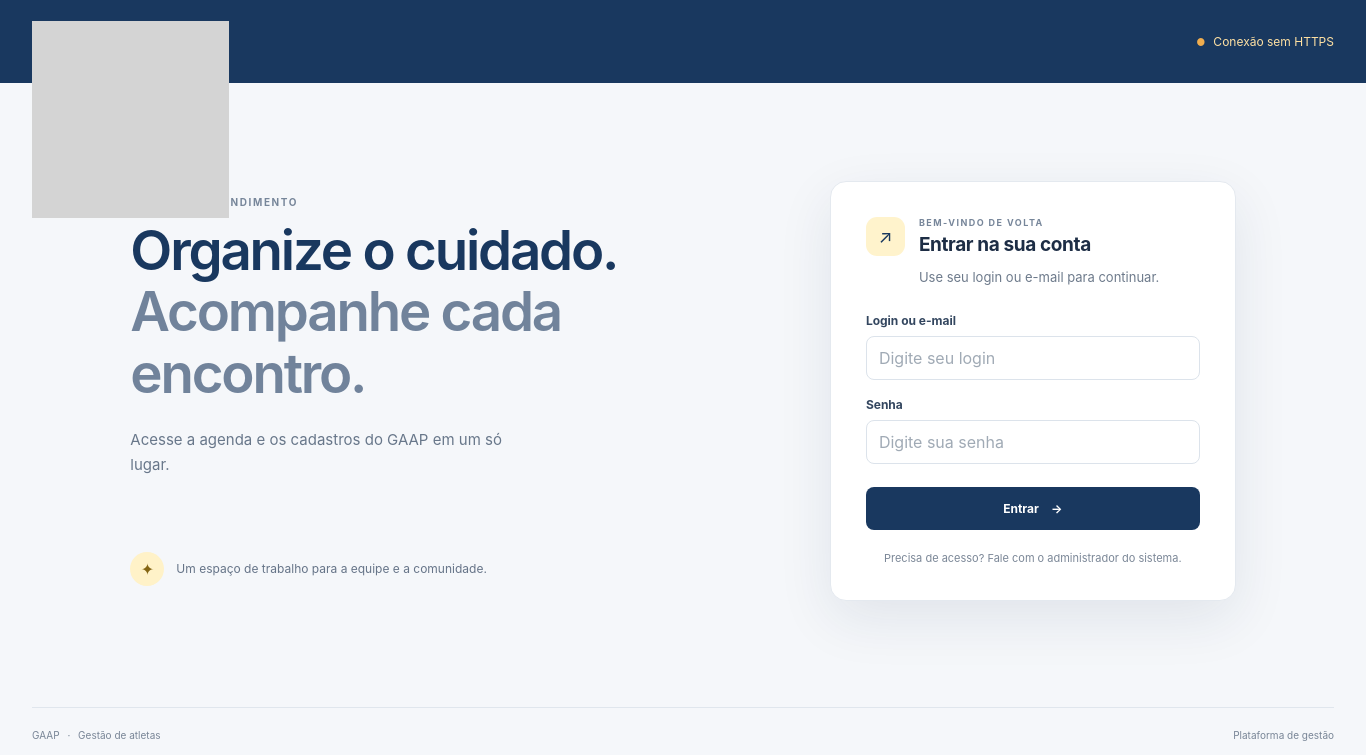
it: cliente web GAAP › mostra Cadastros apenas ao Administrador e valida o envio pela API
Expected: the heading "Entrar na sua conta" is shown, [919,233,1091,256]
Type "admin@example.com" into the field labelled "Login ou e-mail" at (1033, 358), box [866,336,1200,380]
Type "senha-teste" into the password field labelled "Senha" at (1033, 442), box [866,420,1200,464]
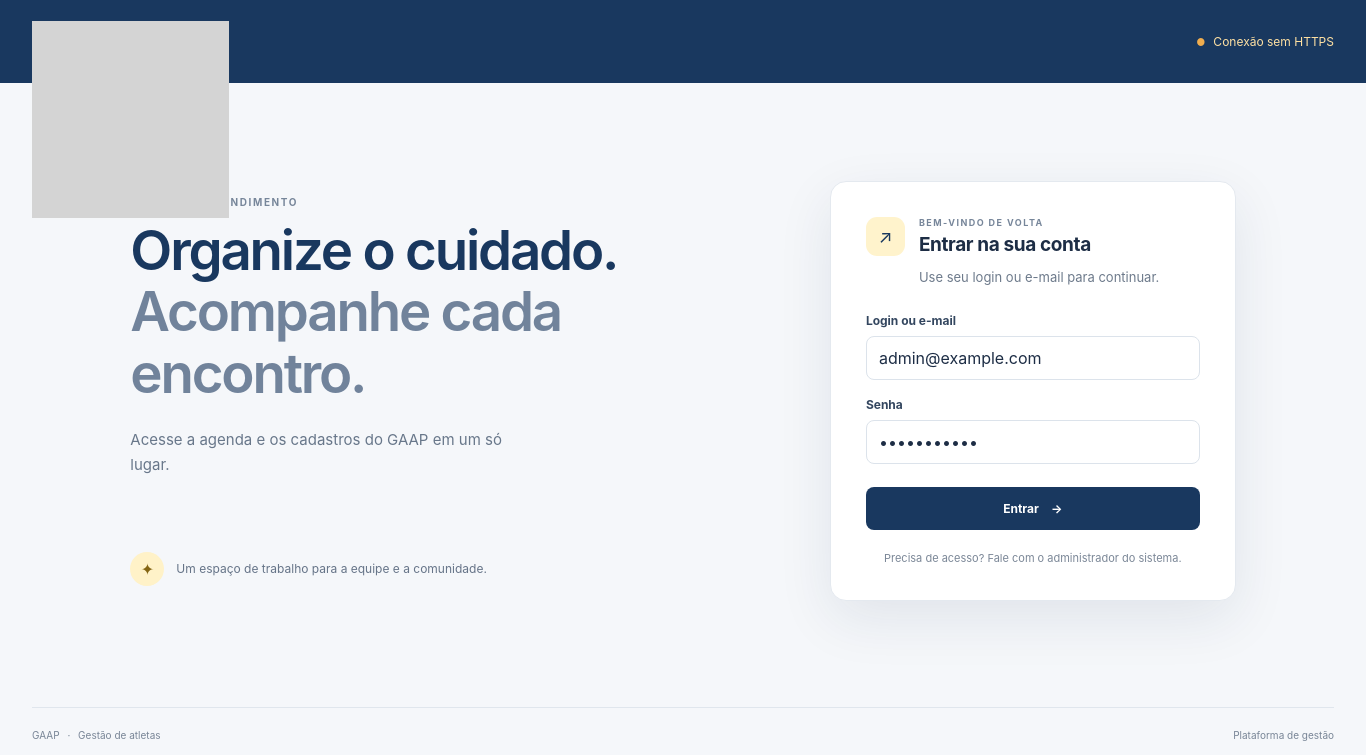
Submit the form "Login ou e-mail Senha Entrar →", box [866,313,1200,530]
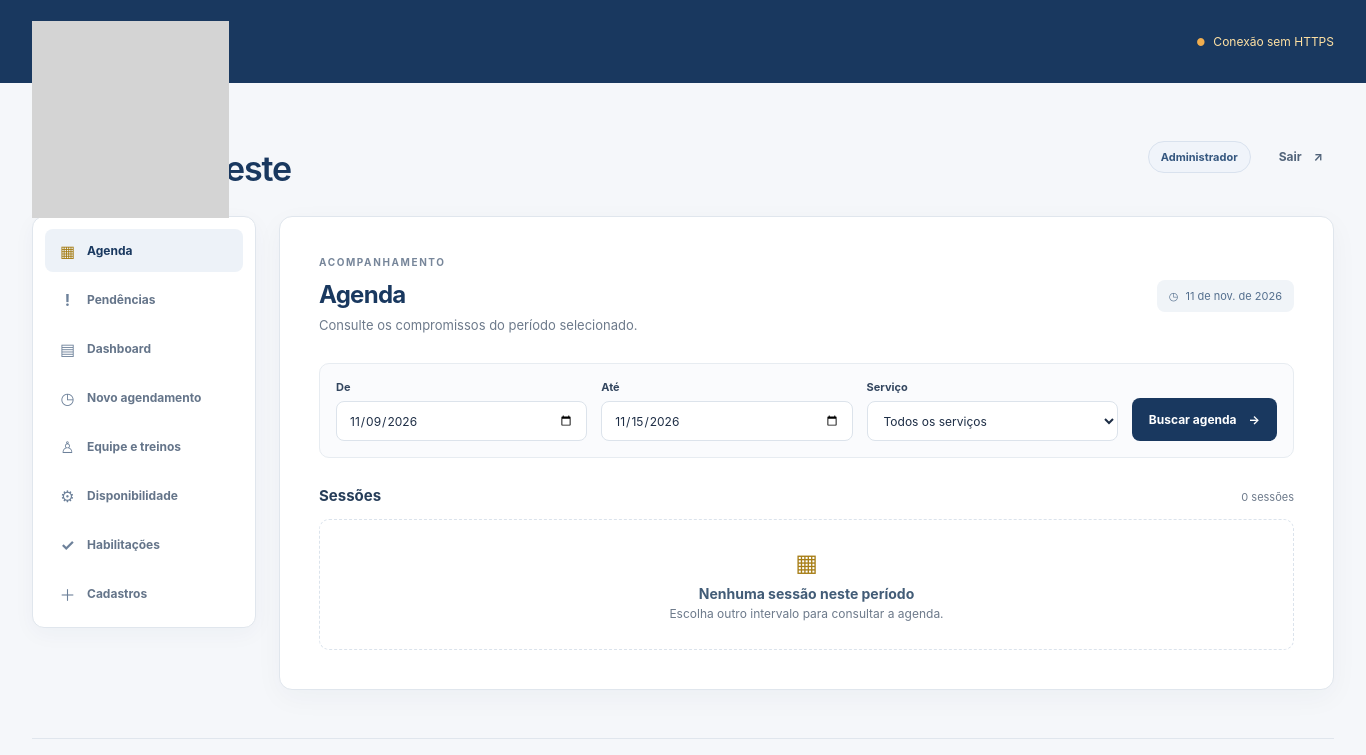
Click the button "＋ Cadastros" at (144, 594), box [45,572,243,615]
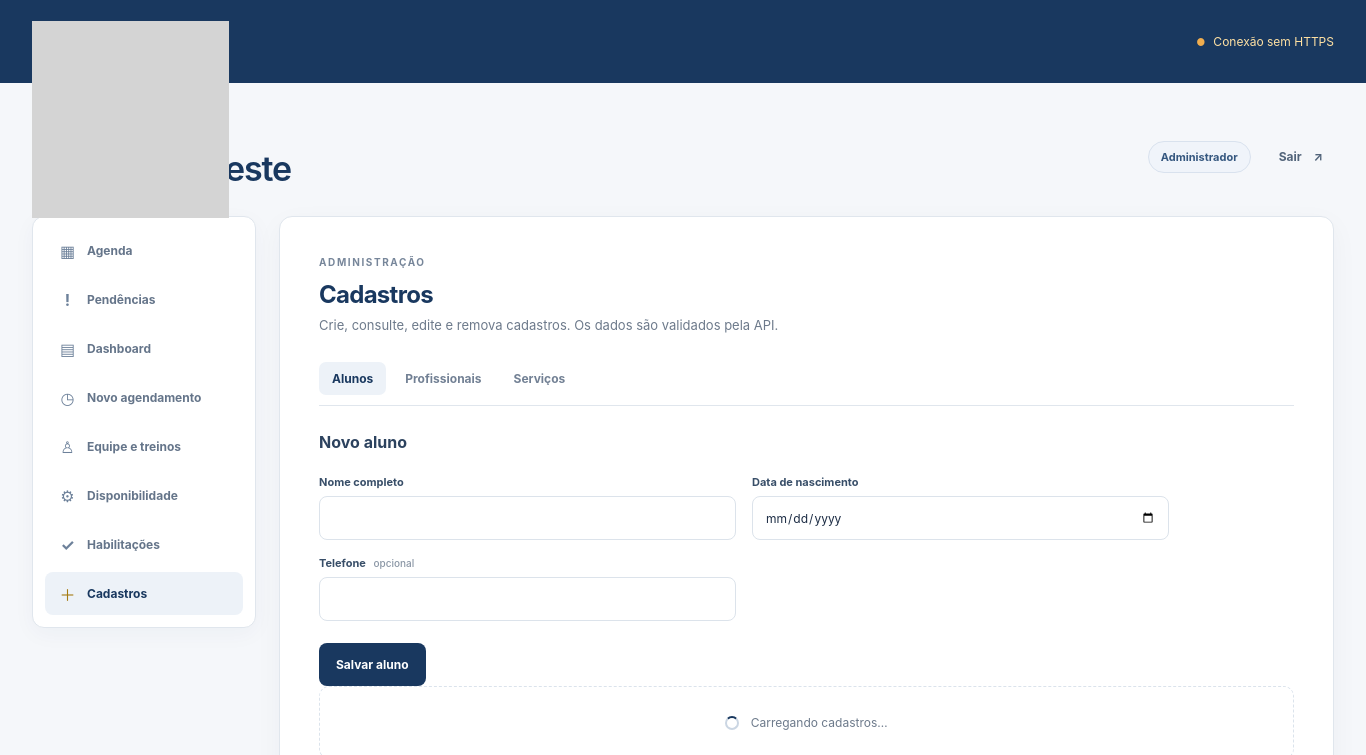
Now the heading "Cadastros" is shown, box [319,280,433,309]
Type "Ana Lima" into the field labelled "Nome completo" at (528, 518), box [319,496,736,540]
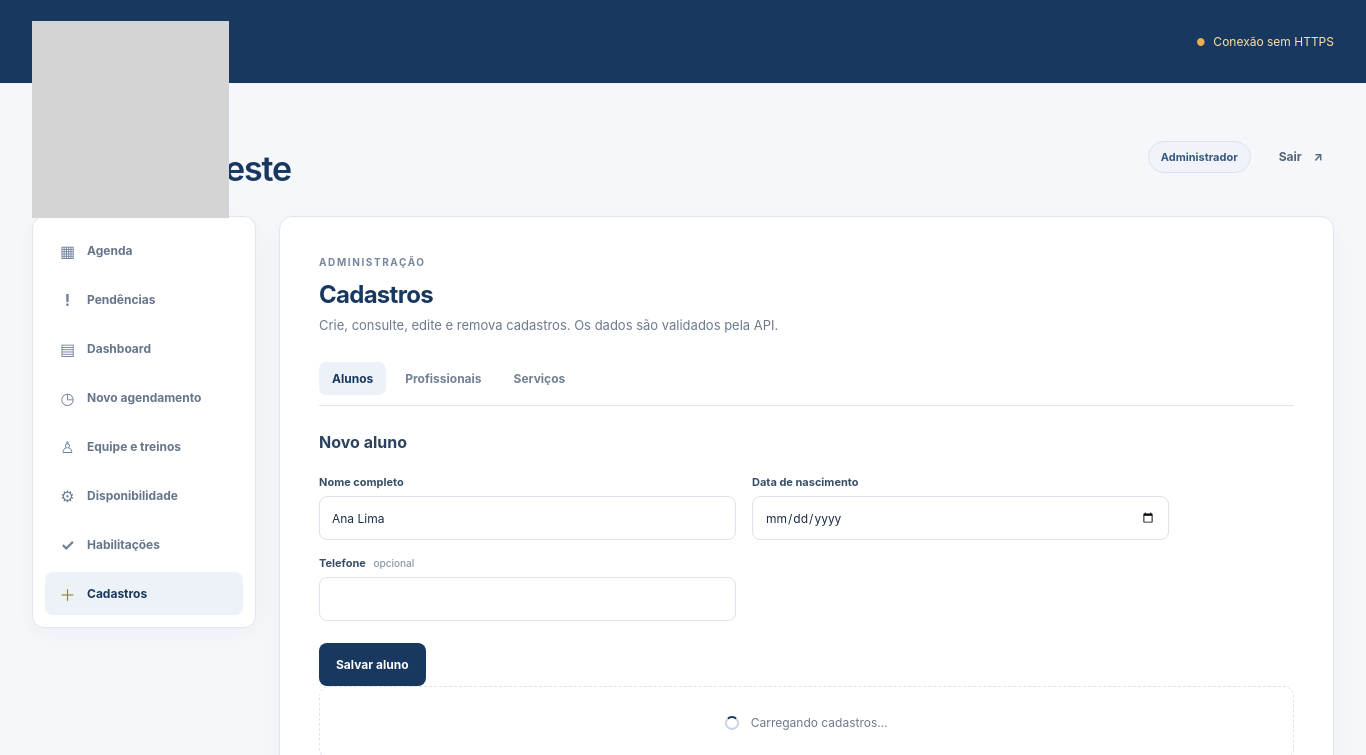
Type "2010-03-01" into the date field labelled "Data de nascimento" at (960, 518), box [752,496,1169,540]
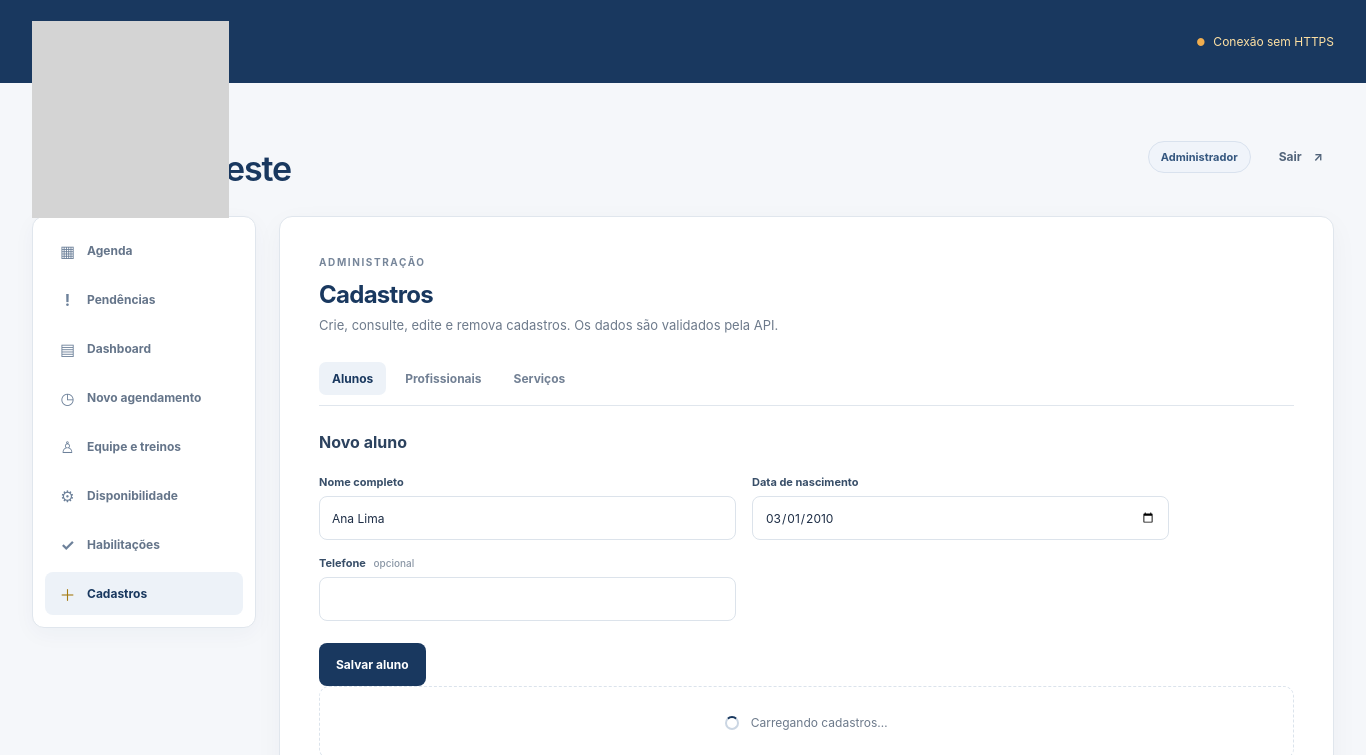
Submit the form "Salvar aluno", box [319,406,1169,686]
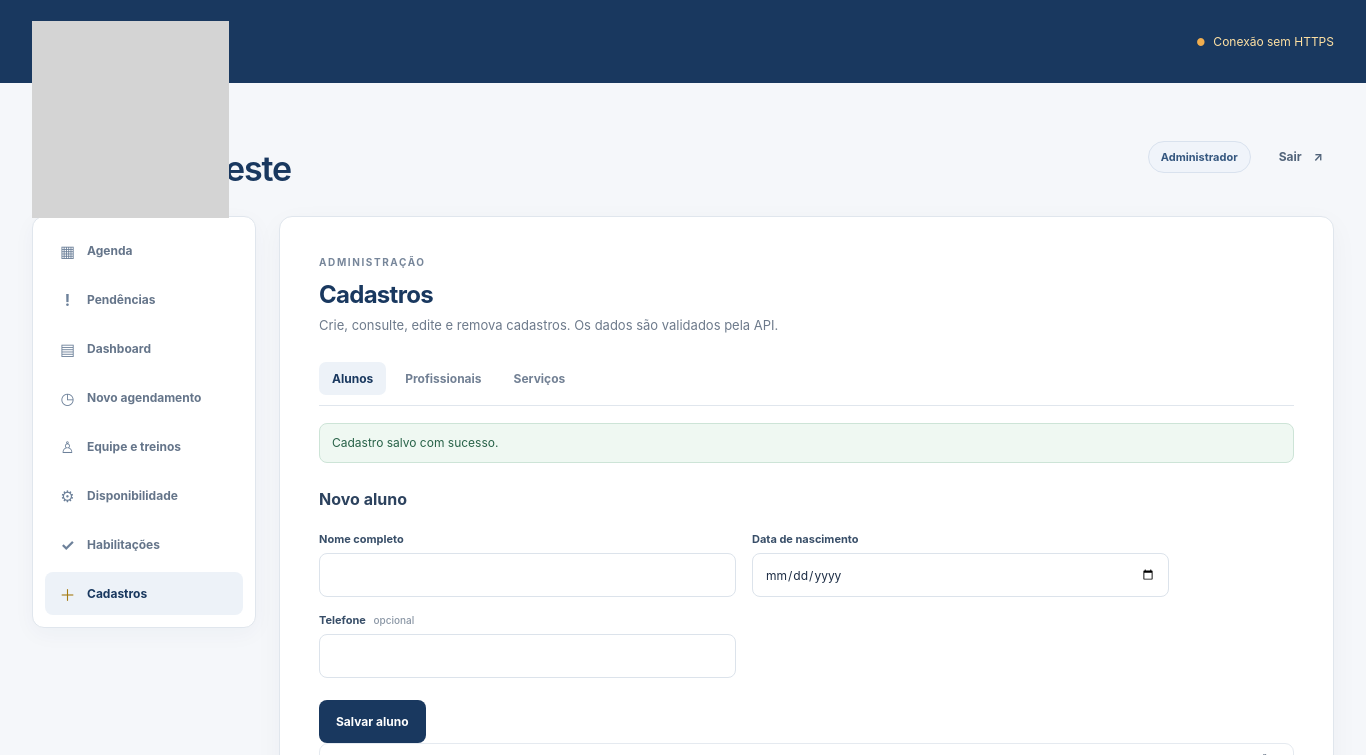
Now the text "Cadastro salvo com sucesso." is shown, box [319,423,1294,463]
